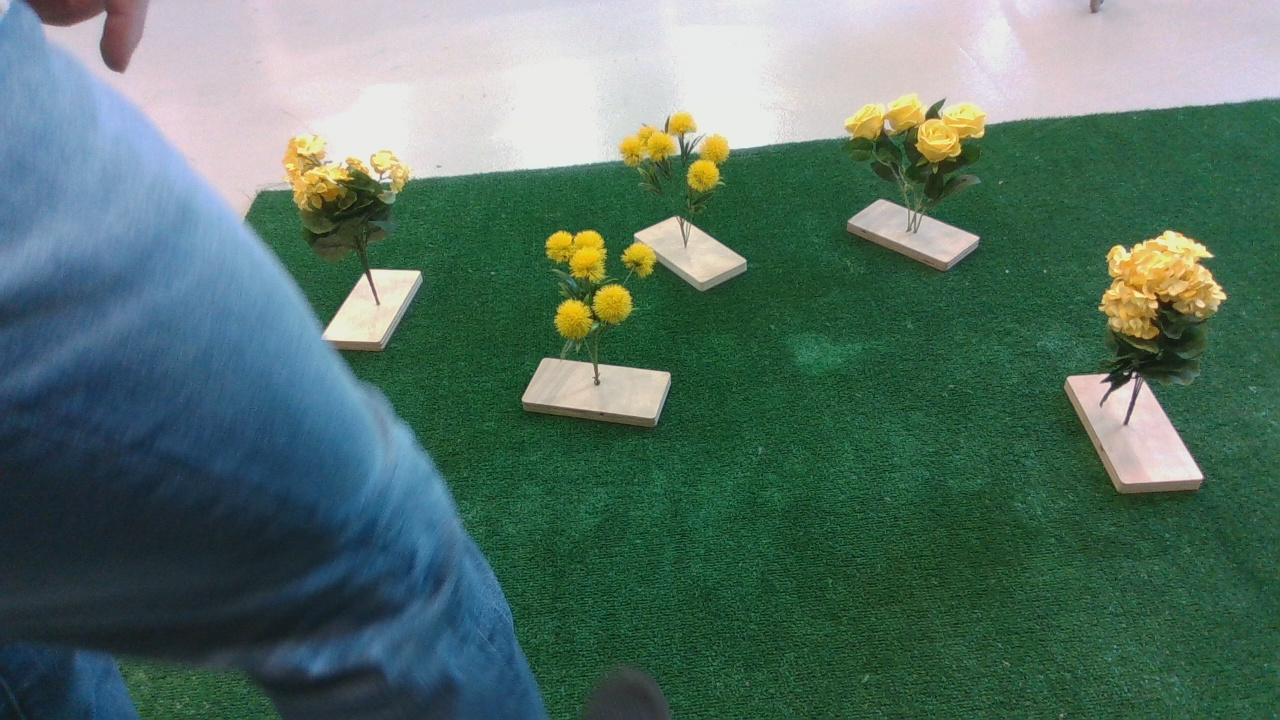dandelion: (541, 222, 664, 359), (614, 116, 746, 204)
geranium: (1099, 213, 1240, 410), (279, 132, 421, 258)
rose: (842, 94, 1008, 208)
